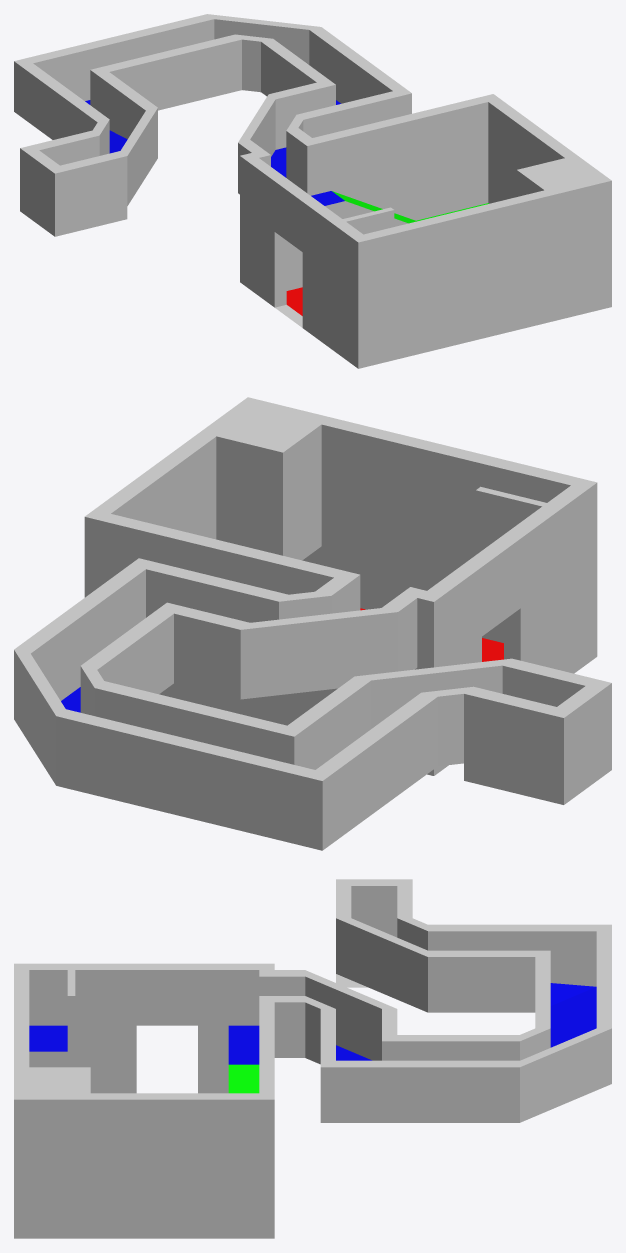
The model's file is Sala2.glb.
3 renders of one model, top to bottom at view 1: azimuth 30°, elevation 25°; view 2: azimuth 150°, elevation 25°; view 3: azimuth 270°, elevation 25°, orthographic. The views are drawn at different scales.
Visible parts, largest first — view 1: Sala2; view 2: Sala2; view 3: Sala2.
Part boxes in pixels (bbox=[...]): Sala2: bbox=[14, 14, 611, 368]; Sala2: bbox=[14, 397, 611, 850]; Sala2: bbox=[14, 879, 611, 1238].
Size of the model in its own units: 34 by 10 by 39.
